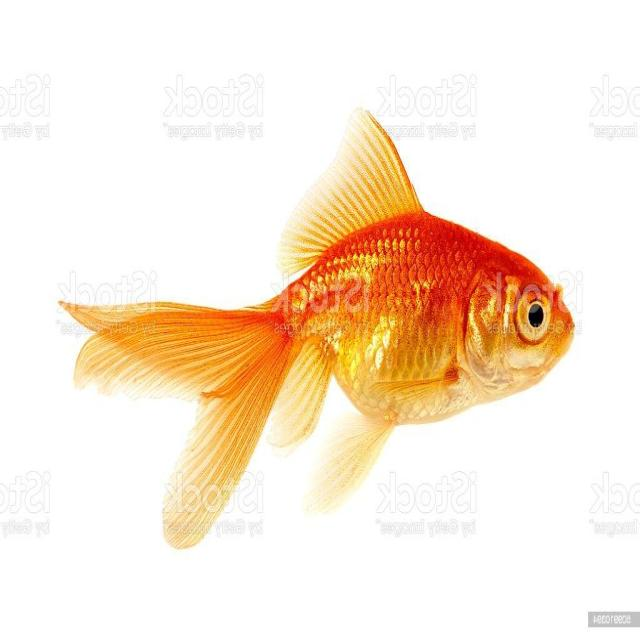GoldFish: (55, 105, 581, 549)
